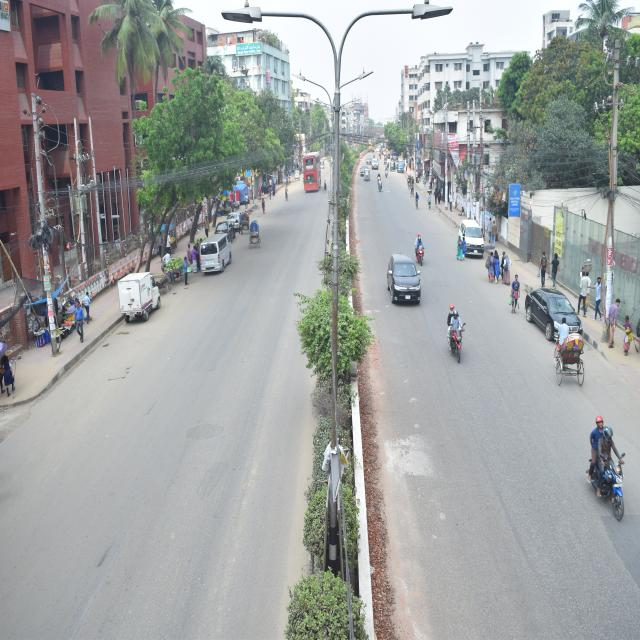bus: (296, 136, 331, 202)
car: (520, 277, 599, 364), (374, 231, 432, 318), (459, 214, 495, 262), (211, 209, 241, 245), (228, 199, 252, 237), (369, 159, 384, 172)
microbus: (189, 225, 257, 285)
motorbike: (575, 403, 640, 547), (436, 282, 478, 405), (413, 224, 435, 285), (374, 168, 388, 196)
pickup-van: (108, 261, 188, 353)
